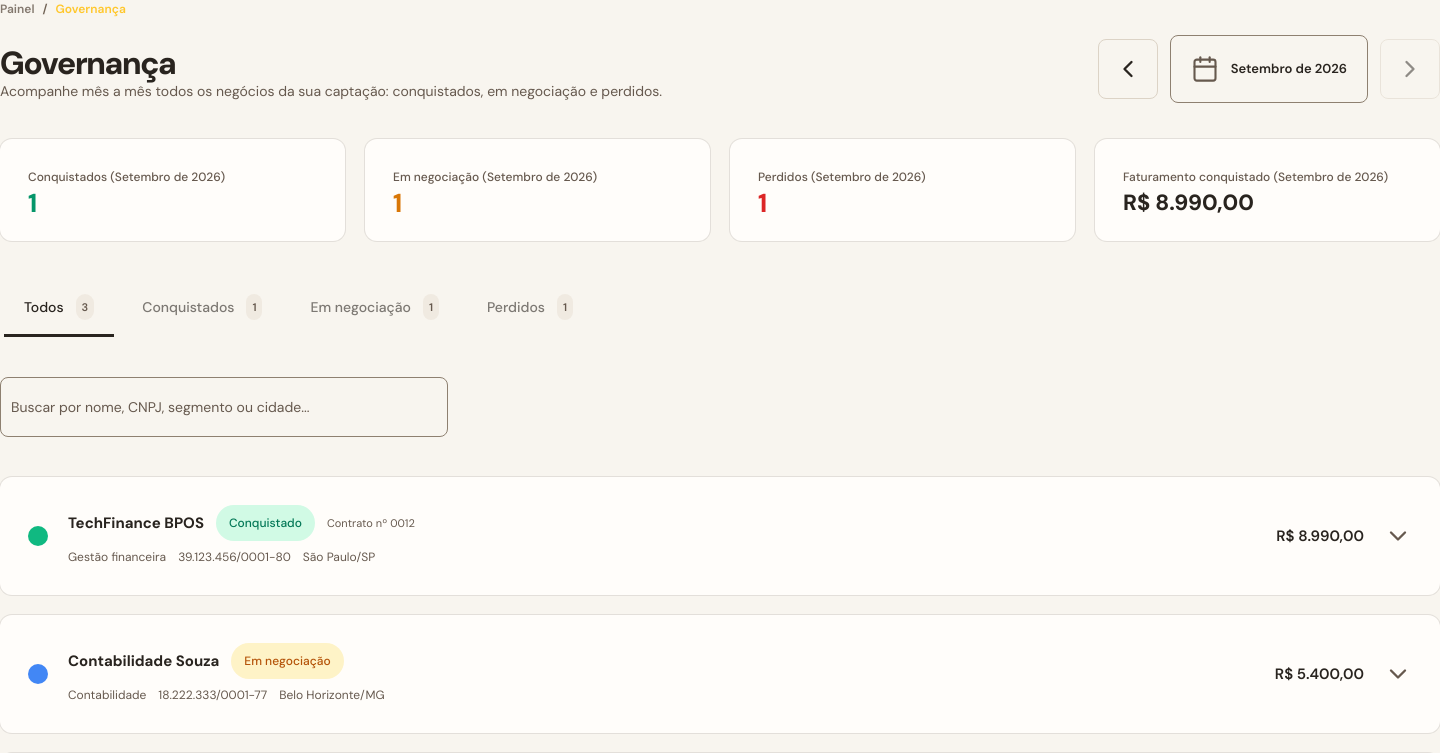
Test case: GovernancaPage › filtra os negócios ao trocar de mês
Expected: the text "TechFinance BPOS" is shown, [68,513,204,533]
Expected: the text "Logística Vale" is not shown
Click the button with test id "month-picker". click: (1269, 69)
box: [1170,35,1368,103]
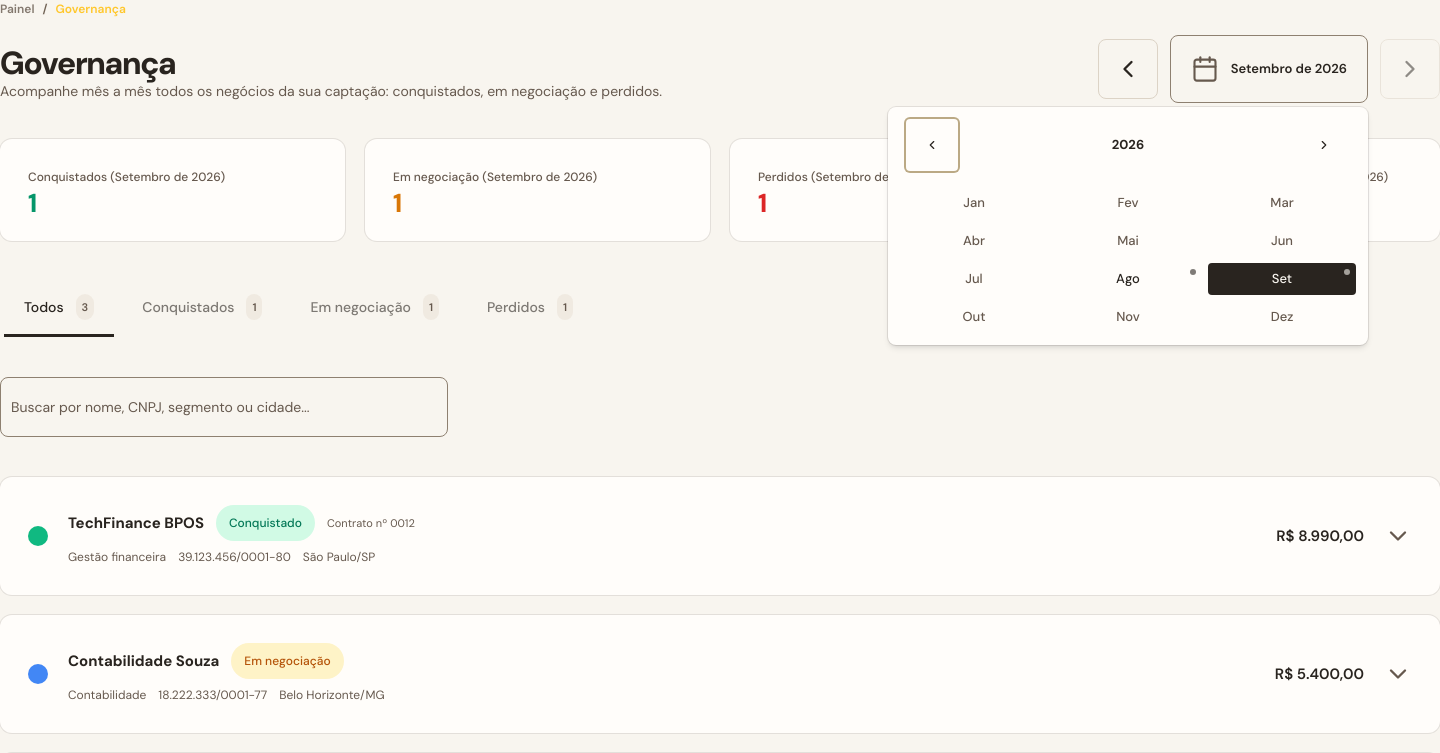
Click the button with test id "month-option-8". click: (1128, 279)
box: [1054,263,1202,295]
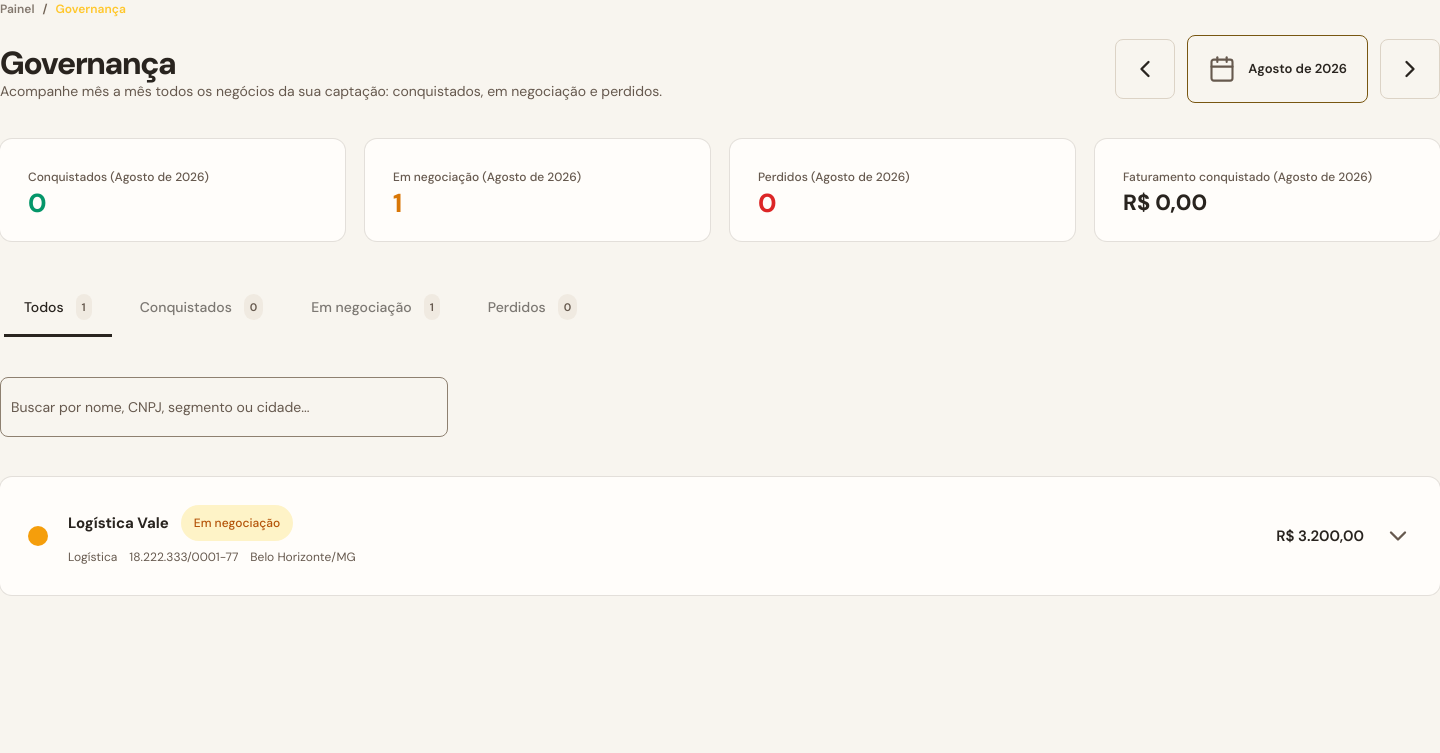
Expected: the text "Logística Vale" is shown, [68,513,169,533]
Expected: the button "TechFinance BPOS" is gone
